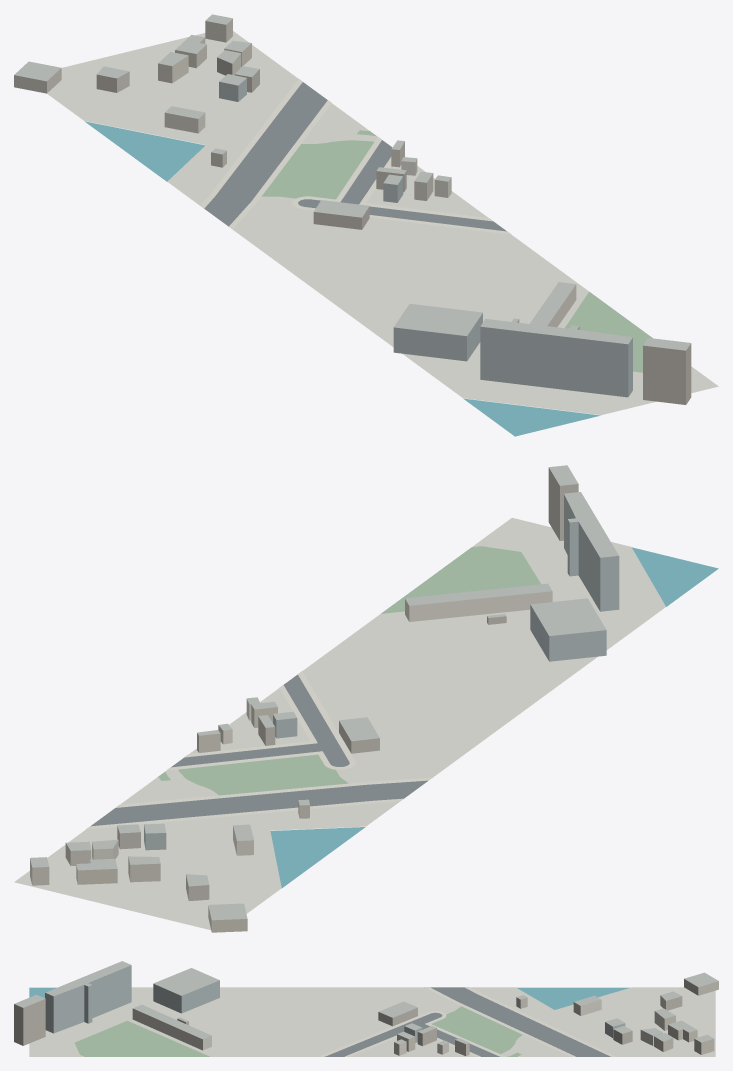
3 views of the same model, one above another, from view 1: azimuth 30°, elevation 25°; view 2: azimuth 150°, elevation 25°; view 3: azimuth 270°, elevation 25° (orthographic). The views are drawn at different scales.
Visible parts, largest first — view 1: city; view 2: city; view 3: city.
Part boxes in pixels (x1,y1,x2,y2): city: (14, 14, 718, 436); city: (14, 465, 718, 932); city: (14, 961, 718, 1056).
Size of the model in its own units: 131 by 30.78 by 513.
